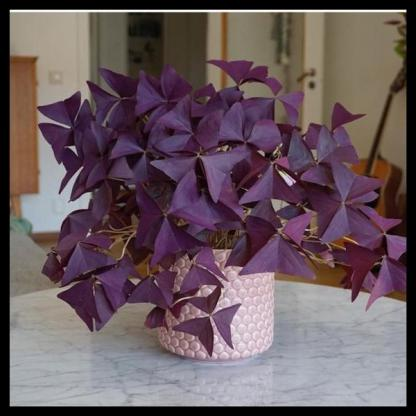Kupu-Kupu: (299, 130, 398, 255), (44, 201, 129, 332), (160, 122, 248, 200), (29, 93, 108, 163), (188, 303, 240, 337)
